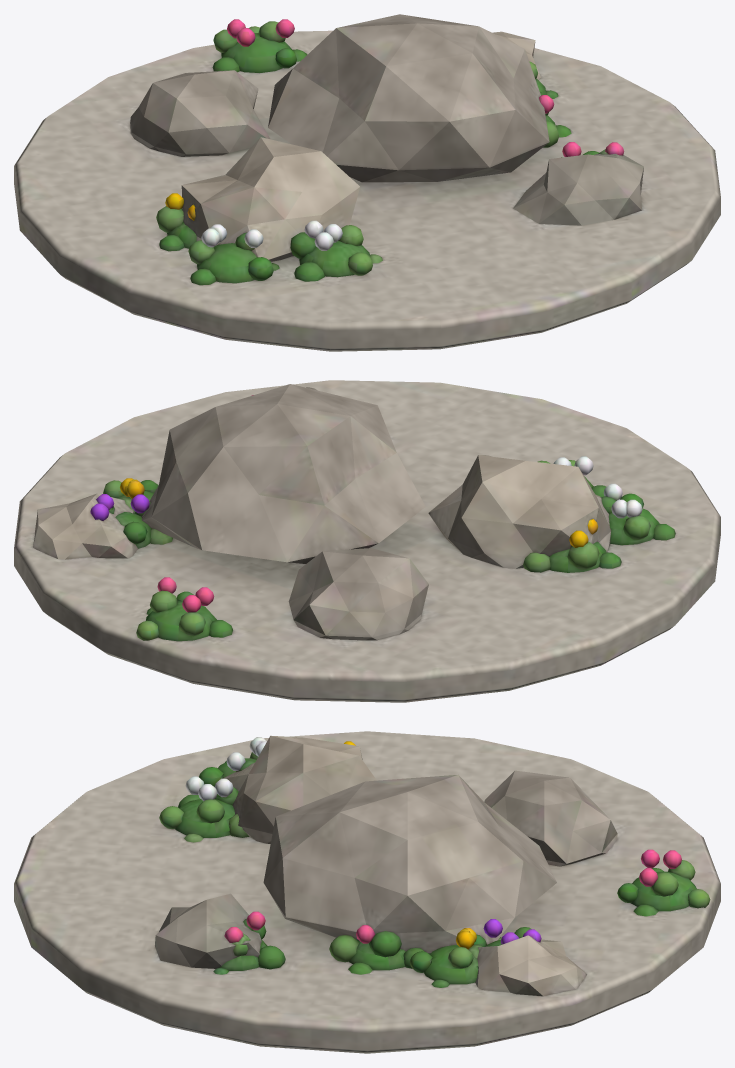
File: rock_garden.glb
3 renders of one model, top to bottom at view 1: azimuth 30°, elevation 25°; view 2: azimuth 150°, elevation 25°; view 3: azimuth 270°, elevation 25°, orthographic.
Visible parts, largest first — view 1: rock_garden; view 2: rock_garden; view 3: rock_garden.
Boxes of the visible parts, left/top/right/bottom form: rock_garden: left=14, top=14, right=720, bottom=351; rock_garden: left=14, top=380, right=720, bottom=702; rock_garden: left=14, top=731, right=720, bottom=1053.
Size of the model in its own units: 0.88 by 0.2047 by 0.88.
Materials: 1 (1 with a texture image).
